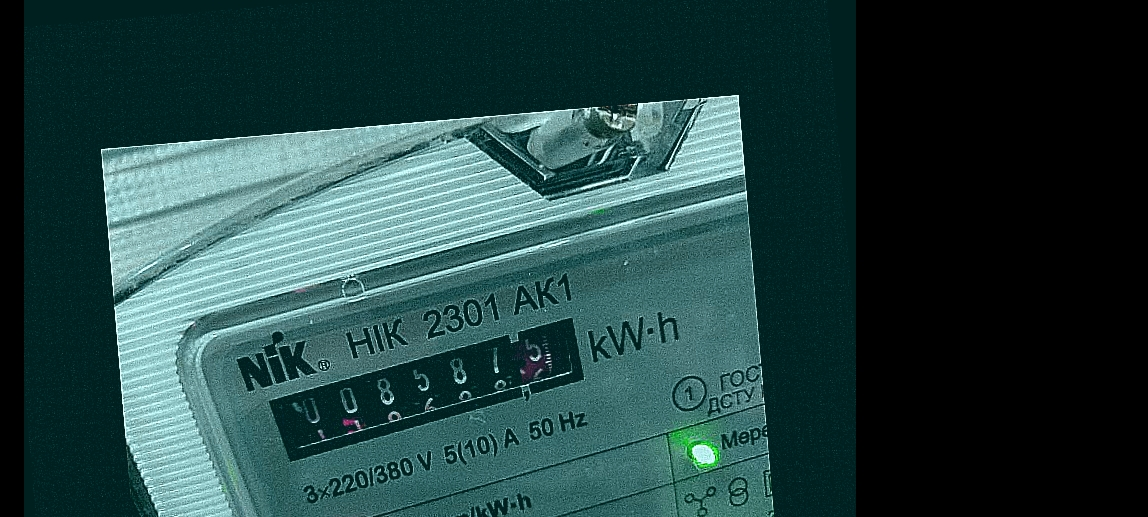0: (335, 380, 363, 416), (297, 391, 326, 425)
5: (409, 361, 435, 394), (521, 329, 545, 362)
6: (529, 364, 548, 383)
7: (483, 342, 508, 377)
8: (373, 373, 400, 407), (446, 352, 471, 387)
screen: (256, 313, 612, 464)
